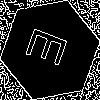E: (25, 25, 77, 72)
